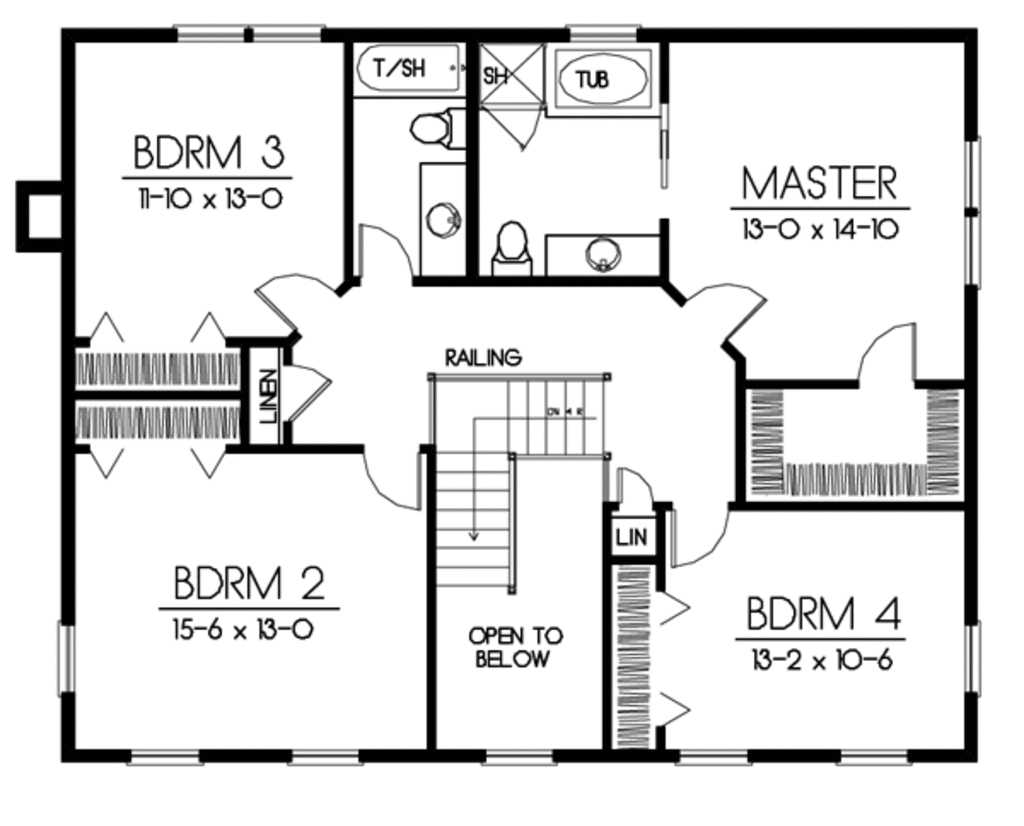door: (681, 272, 769, 352), (250, 270, 337, 332), (855, 318, 921, 390), (360, 443, 424, 515), (355, 219, 417, 287), (667, 504, 731, 568), (279, 360, 331, 422), (617, 463, 656, 507)
large_sink: (399, 104, 467, 157), (488, 218, 539, 279)
small_sink: (417, 157, 474, 282), (541, 229, 665, 281)
stairs: (428, 371, 609, 595)
tub: (545, 42, 661, 121), (350, 42, 470, 104)
window: (167, 22, 328, 48), (964, 135, 985, 293), (123, 744, 209, 771), (276, 746, 363, 771), (832, 747, 916, 771), (55, 618, 78, 698), (563, 24, 645, 46), (678, 747, 753, 771), (475, 750, 560, 769), (964, 620, 982, 699)
